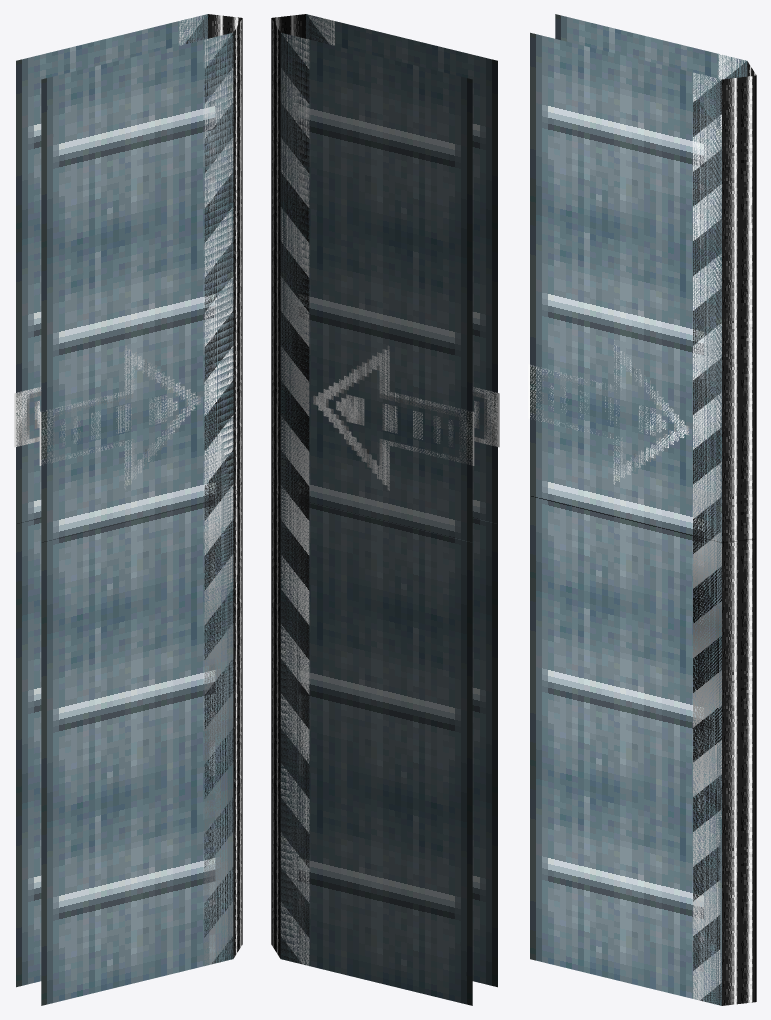
File: Psilo_lift_doorZ.obj
3 views of the same model, side by side, from view 1: azimuth 30°, elevation 25°; view 2: azimuth 150°, elevation 25°; view 3: azimuth 330°, elevation 25° (orthographic).
Bounding box in the file's own units: 284 × 1166 × 58.
Materials: 4 (4 with a texture image).
